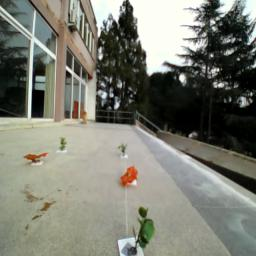herb: (132, 206, 159, 253), (119, 142, 129, 157), (60, 137, 68, 152)
wild: (121, 164, 140, 189), (24, 152, 50, 166)
